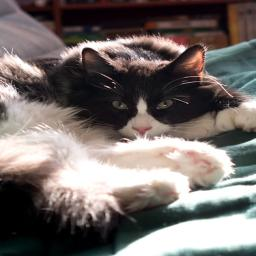catnose: (130, 124, 154, 135)
